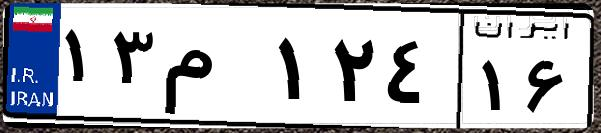1: (270, 28, 330, 110), (57, 26, 110, 100), (475, 38, 525, 113)
2: (330, 28, 385, 110)
3: (110, 28, 158, 98)
4: (385, 28, 445, 110)
6: (525, 38, 570, 115)
م: (158, 20, 270, 120)
